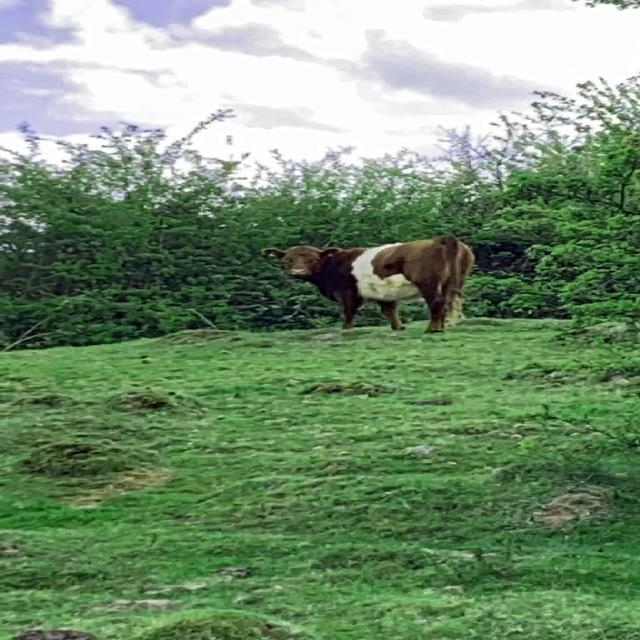cow: (264, 245, 420, 329)
